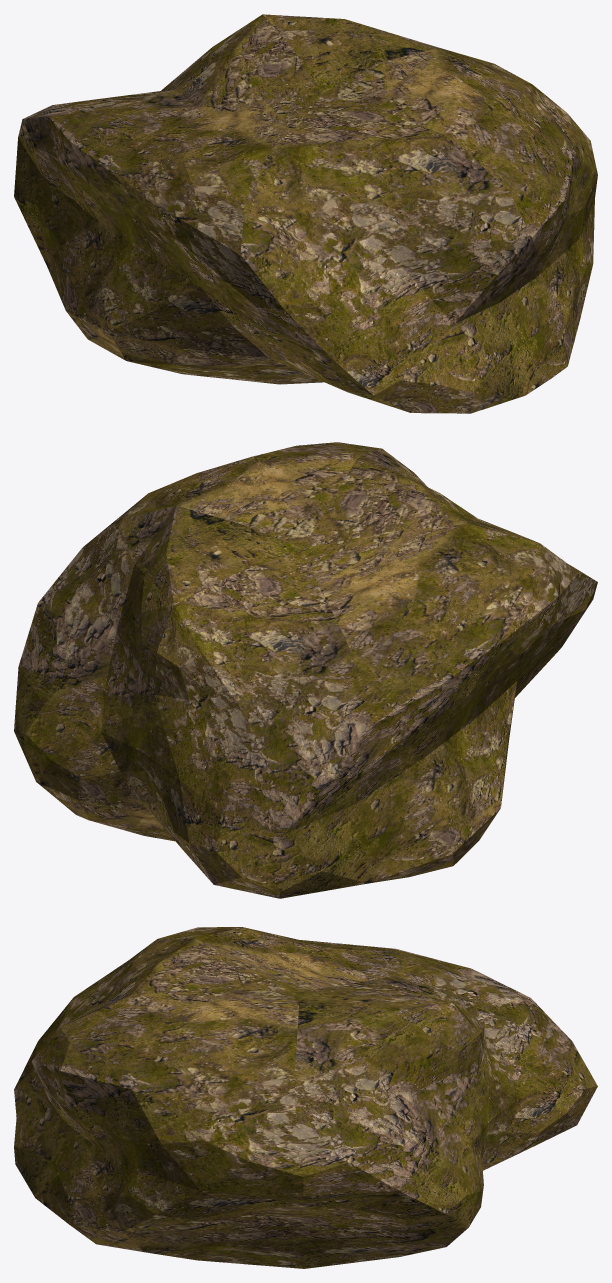
Rendered from Rock_01.fbx.
3 views of the same model, one above another, from view 1: azimuth 30°, elevation 25°; view 2: azimuth 150°, elevation 25°; view 3: azimuth 270°, elevation 25° (orthographic). The views are drawn at different scales.
Parts seen in each view (by area): view 1: ICO球; view 2: ICO球; view 3: ICO球.
Part boxes in pixels (left/top/right/bottom): ICO球: left=14, top=14, right=597, bottom=413; ICO球: left=14, top=442, right=597, bottom=898; ICO球: left=14, top=927, right=597, bottom=1268.
Bounding box in the file's own units: 8.81 × 5.79 × 11.54.
